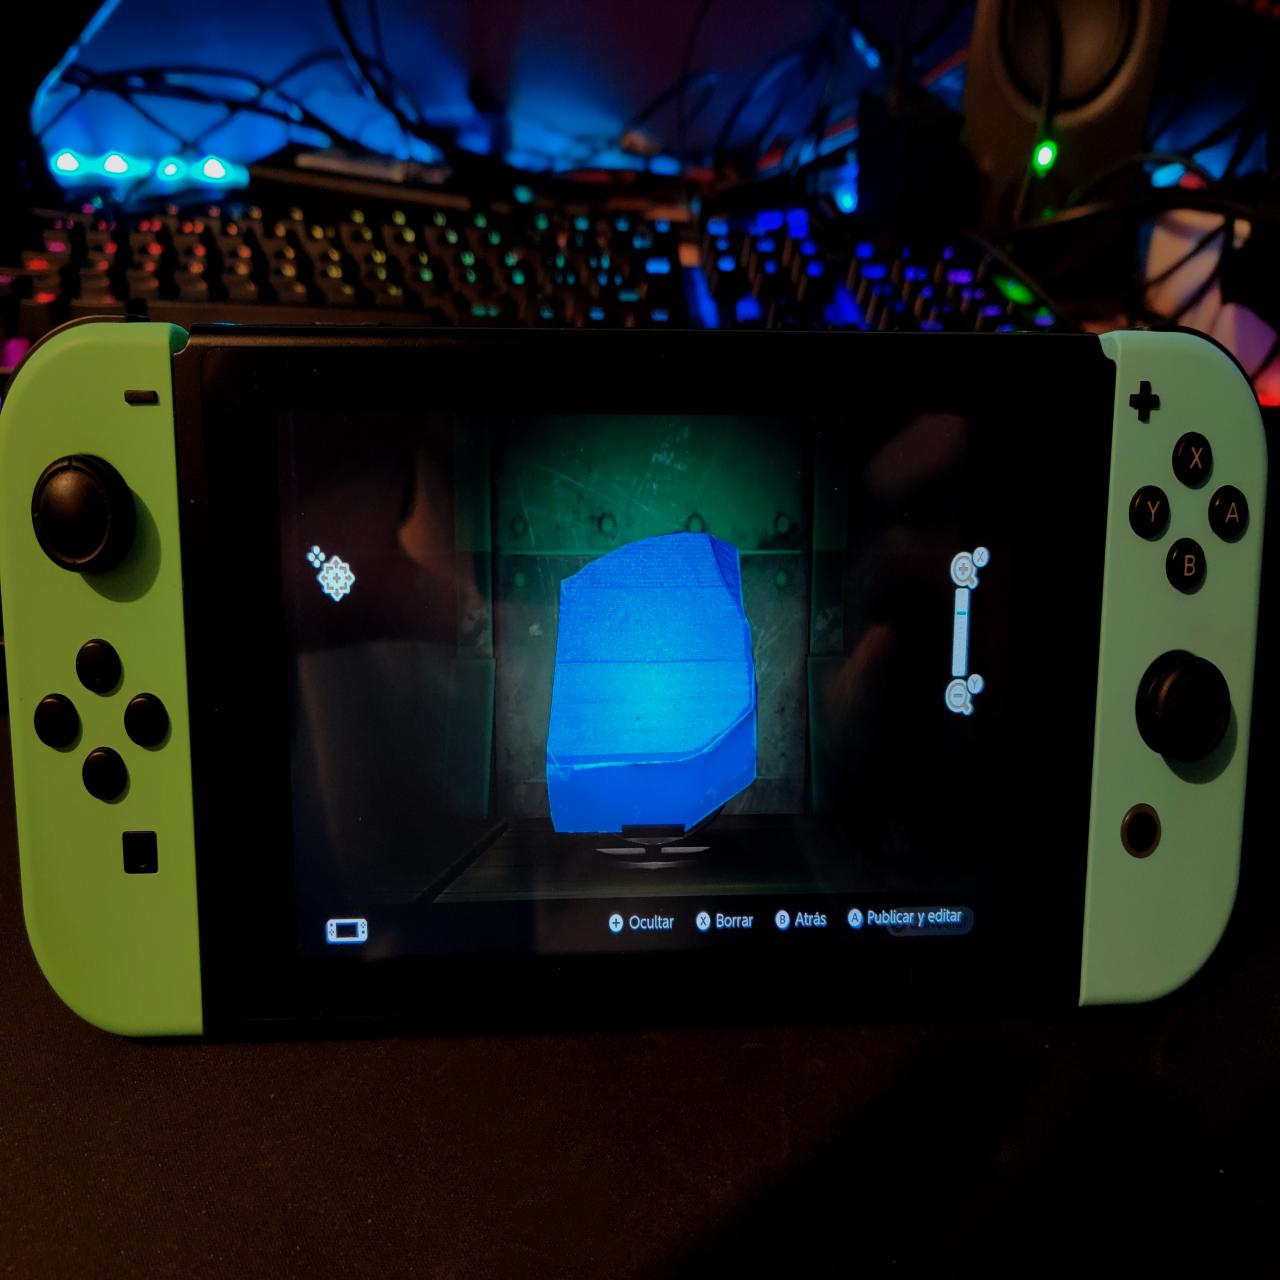RosettaStoneFake: (545, 529, 764, 844)
